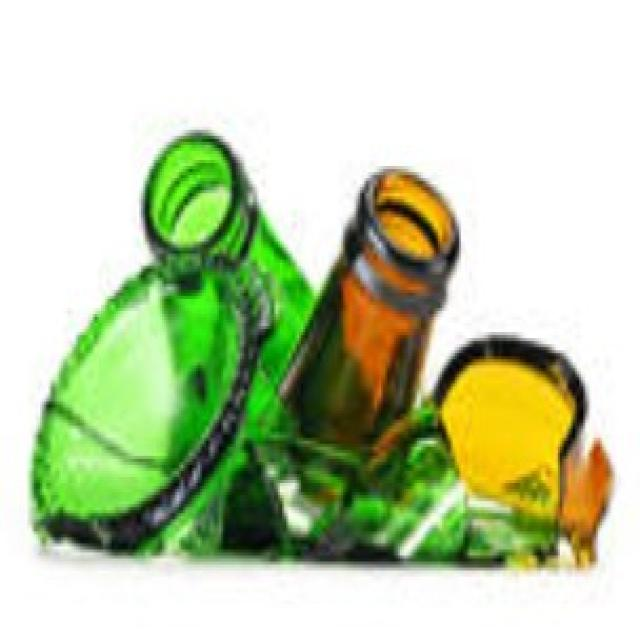electronic: (30, 120, 619, 568)
